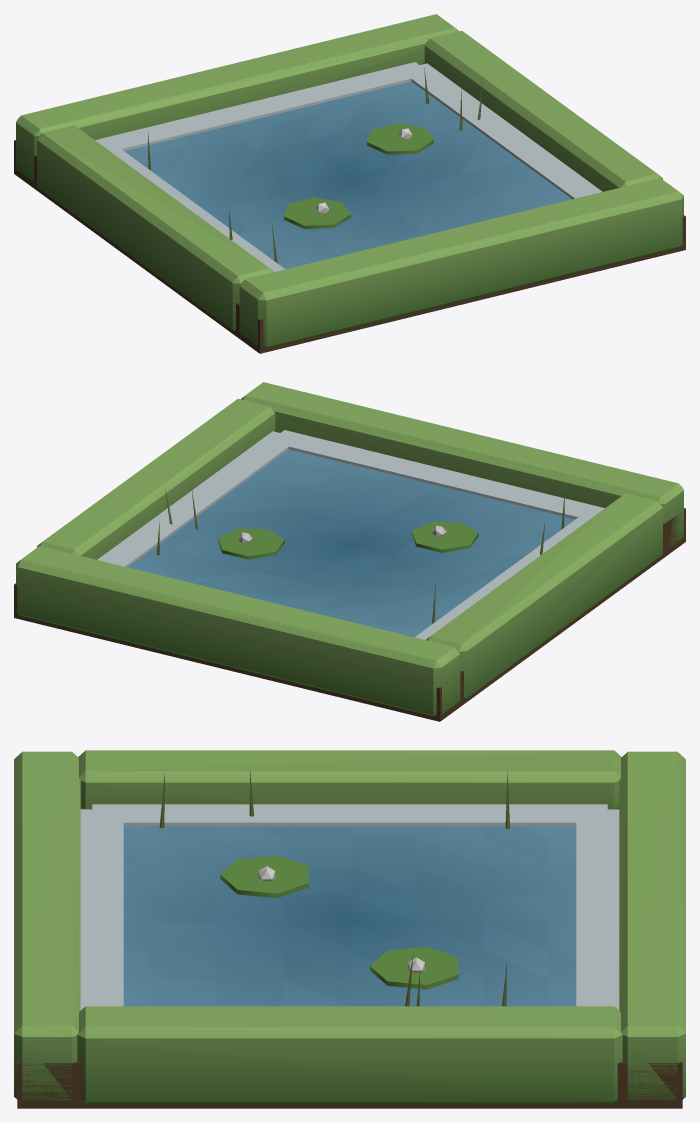
File: water-pond-01.glb
The picture shows the model from 3 angles, top to bottom: view 1: azimuth 30°, elevation 25°; view 2: azimuth 150°, elevation 25°; view 3: azimuth 270°, elevation 25°; orthographic projection. The views are drawn at different scales.
Visible parts, largest first — view 1: water_pond_01; view 2: water_pond_01; view 3: water_pond_01.
Boxes of the visible parts, x1=… form: water_pond_01: x1=14, y1=14, x2=685, y2=353; water_pond_01: x1=14, y1=382, x2=685, y2=721; water_pond_01: x1=14, y1=750, x2=685, y2=1108.
Bounding box in the file's own units: 4.04 × 0.6996 × 4.04.
